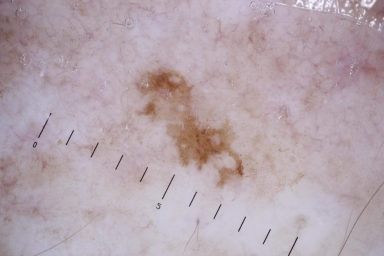melanoma: (135, 64, 250, 188)
